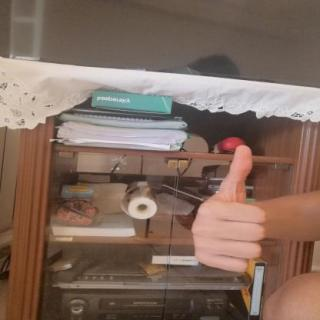ALIF: (185, 137, 274, 278)
